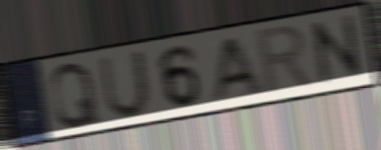6: (156, 43, 203, 110)
A: (208, 33, 266, 106)
N: (306, 11, 368, 90)
Q: (47, 60, 102, 131)
R: (254, 22, 318, 100)
U: (96, 47, 152, 121)
